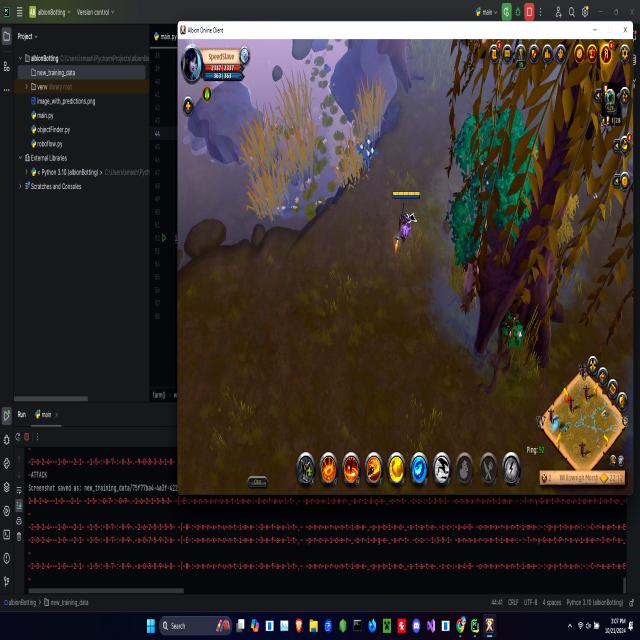hide: (499, 302, 529, 368), (356, 132, 378, 177)
red: (388, 182, 422, 264)
wisp caged: (454, 92, 542, 323)
